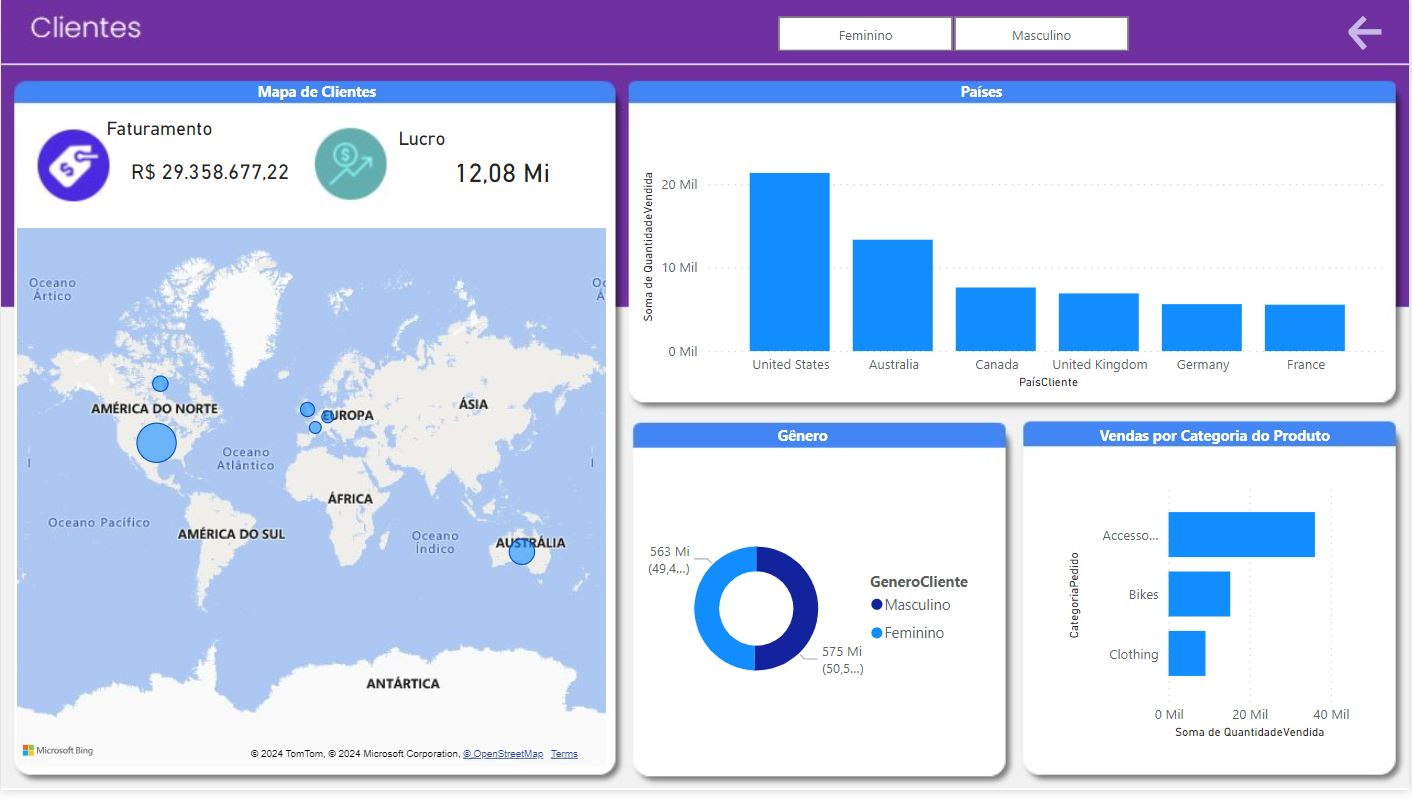

Layout of this report page (visuals, bound fields, positions):
{"tool":"powerbi","page":{"name":"Clientes","canvas":[1280,720],"ordinal":2},"visuals":[{"type":"actionButton","box":[1220.9,11.8,51.8,40],"z":0},{"type":"card","title":"Faturamento","fields":{"Values":["Sum(vw_AnaliseVendas - vw_AnaliseVendas.ValorVenda)"]},"box":[90.9,108.2,198.2,80.9],"z":1},{"type":"card","title":"Lucro","fields":{"Values":["Sum(vw_AnaliseVendas - vw_AnaliseVendas.LucroVenda)"]},"box":[356.4,117.3,198.2,62.7],"z":2},{"type":"map","fields":{"Category":["vw_AnaliseVendas - vw_AnaliseVendas.PaísCliente"],"Size":["Sum(vw_AnaliseVendas - vw_AnaliseVendas.QuantidadeVendida)"]},"box":[10,204.5,544.5,499.1],"z":3},{"type":"textbox","box":[228.2,70.9,142.7,28.2],"z":4},{"type":"donutChart","fields":{"Category":["vw_AnaliseVendas - vw_AnaliseVendas.GeneroCliente"],"Y":["Sum(vw_AnaliseVendas - vw_AnaliseVendas.IDCliente)"]},"box":[578.2,390,321.8,330],"z":5},{"type":"textbox","box":[700.9,383.6,75.5,28.2],"z":6},{"type":"textbox","box":[993.6,383.6,237.3,28.2],"z":7},{"type":"barChart","fields":{"Category":["vw_AnaliseVendas - vw_AnaliseVendas.CategoriaPedido"],"Y":["Sum(vw_AnaliseVendas - vw_AnaliseVendas.QuantidadeVendida)"]},"box":[965.5,432.7,265.5,245.5],"z":8},{"type":"slicer","fields":{"Values":["vw_AnaliseVendas - vw_AnaliseVendas.GeneroCliente"]},"box":[680.9,10,368.2,45.5],"z":9},{"type":"textbox","box":[867.3,70.9,65.5,28.2],"z":10},{"type":"columnChart","fields":{"Category":["vw_AnaliseVendas - vw_AnaliseVendas.PaísCliente"],"Y":["Sum(vw_AnaliseVendas - vw_AnaliseVendas.QuantidadeVendida)"]},"box":[578.2,117.3,688.2,242.7],"z":11}]}

Visuals, with their boxes in screenshot pixels (x1, y1, x2, y2), scaled from the page's 1280x720 canvas onto the 1412x800 screenshot:
actionButton: {"left": 1347, "top": 13, "right": 1404, "bottom": 58}
"Faturamento" card: {"left": 100, "top": 120, "right": 319, "bottom": 210}
"Lucro" card: {"left": 393, "top": 130, "right": 612, "bottom": 200}
map - vw_AnaliseVendas - vw_AnaliseVendas.PaísCliente x Sum(vw_AnaliseVendas - vw_AnaliseVendas.QuantidadeVendida): {"left": 11, "top": 227, "right": 612, "bottom": 782}
textbox: {"left": 252, "top": 79, "right": 409, "bottom": 110}
donutChart - vw_AnaliseVendas - vw_AnaliseVendas.GeneroCliente x Sum(vw_AnaliseVendas - vw_AnaliseVendas.IDCliente): {"left": 638, "top": 433, "right": 993, "bottom": 799}
textbox: {"left": 773, "top": 426, "right": 856, "bottom": 458}
textbox: {"left": 1096, "top": 426, "right": 1358, "bottom": 458}
barChart - vw_AnaliseVendas - vw_AnaliseVendas.CategoriaPedido x Sum(vw_AnaliseVendas - vw_AnaliseVendas.QuantidadeVendida): {"left": 1065, "top": 481, "right": 1358, "bottom": 754}
slicer - vw_AnaliseVendas - vw_AnaliseVendas.GeneroCliente: {"left": 751, "top": 11, "right": 1157, "bottom": 62}
textbox: {"left": 957, "top": 79, "right": 1029, "bottom": 110}
columnChart - vw_AnaliseVendas - vw_AnaliseVendas.PaísCliente x Sum(vw_AnaliseVendas - vw_AnaliseVendas.QuantidadeVendida): {"left": 638, "top": 130, "right": 1397, "bottom": 400}
